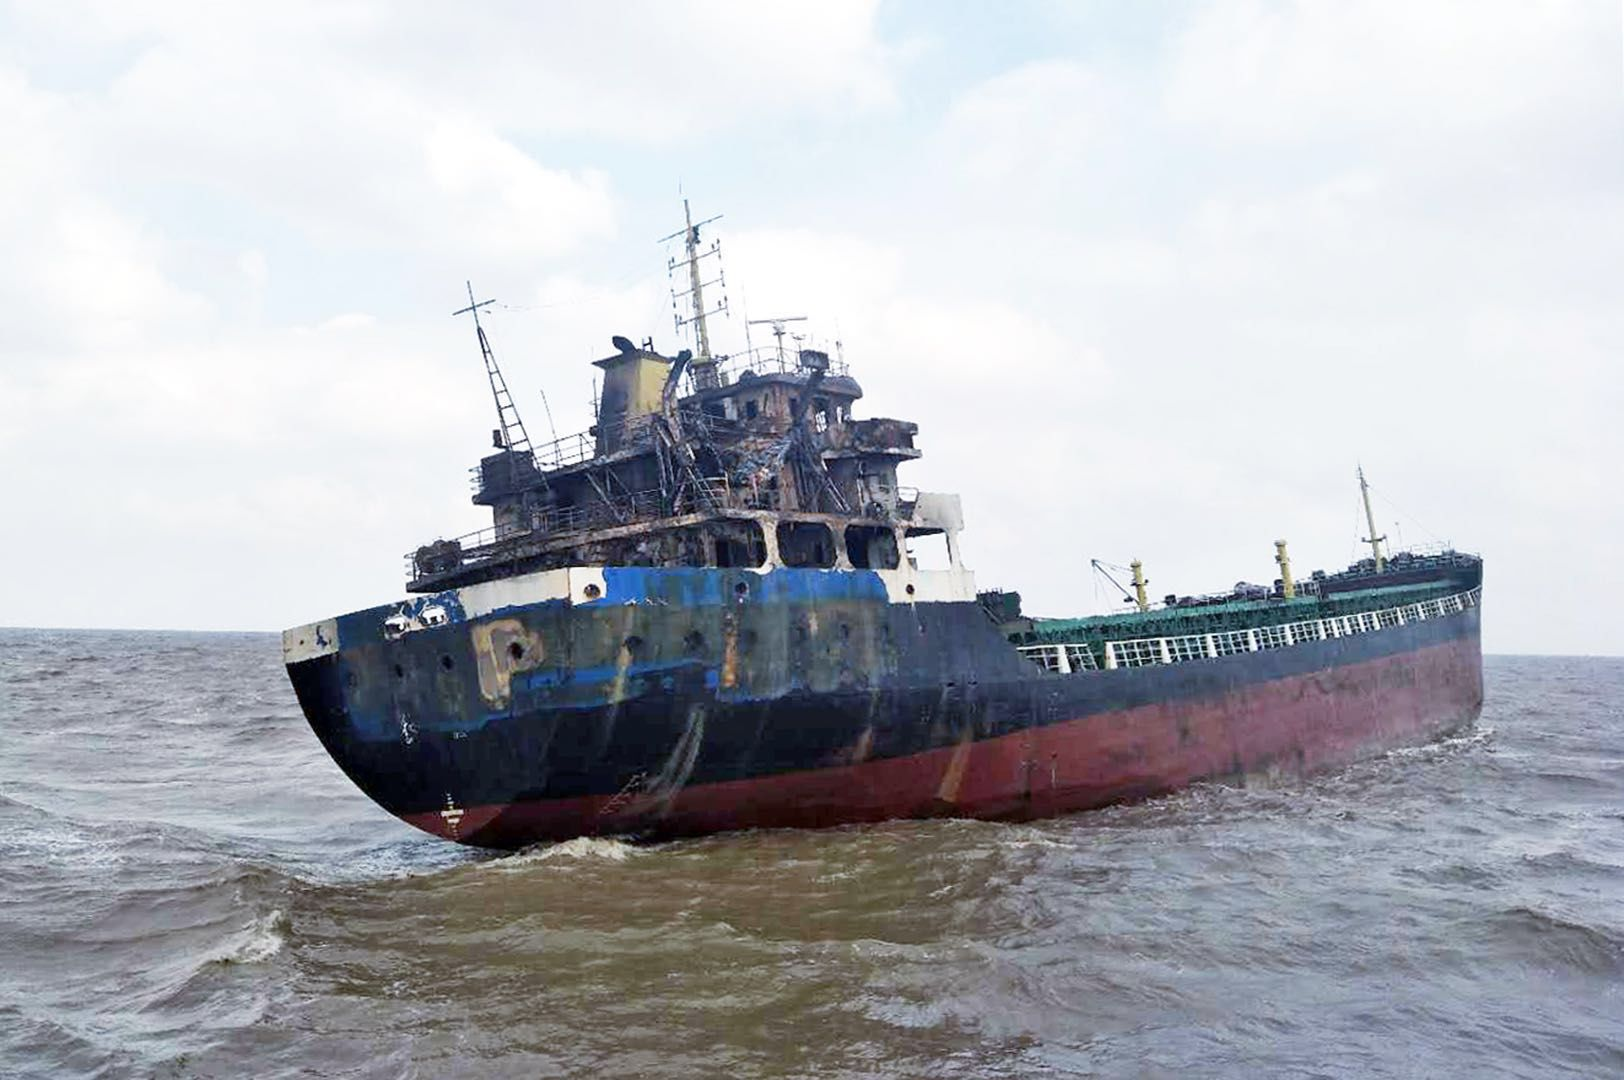Cargoship: (219, 247, 1491, 821)
